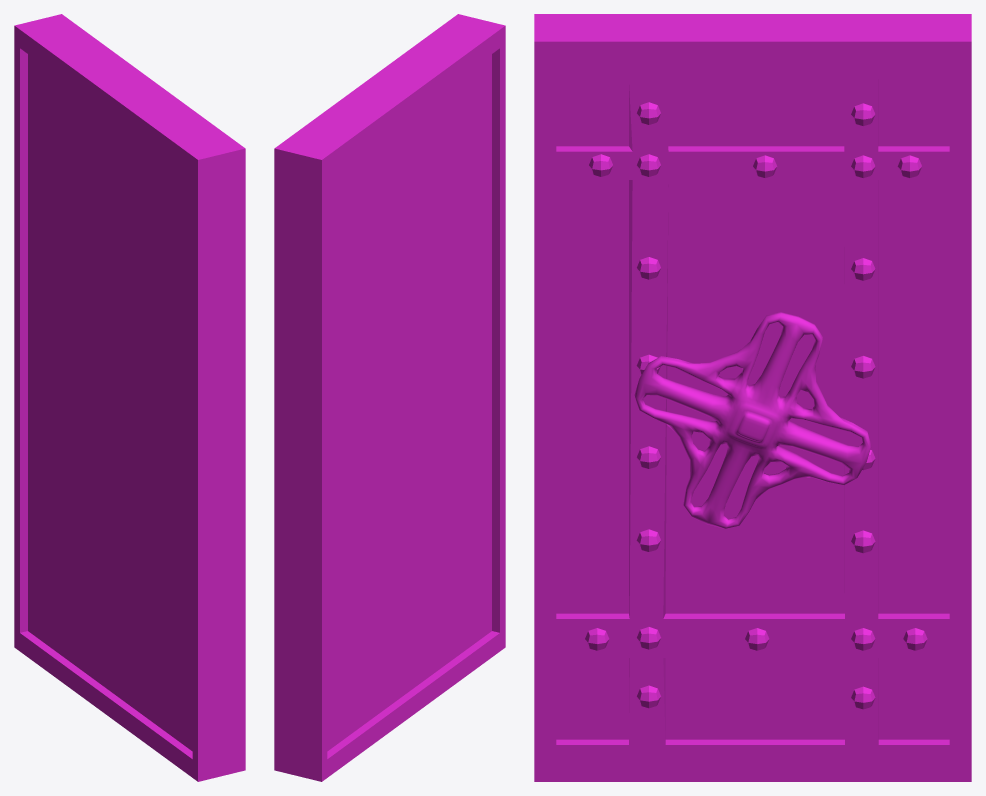
Rendered from Door.fbx.
3 views of the same model, side by side, from view 1: azimuth 30°, elevation 25°; view 2: azimuth 150°, elevation 25°; view 3: azimuth 270°, elevation 25° (orthographic). The views are drawn at different scales.
Parts seen in each view (by area): view 1: Cube.024; view 2: Cube.024; view 3: Cube.024.
Boxes of the visible parts, bbox=[...] form: Cube.024: bbox=[14, 14, 245, 781]; Cube.024: bbox=[274, 14, 505, 781]; Cube.024: bbox=[534, 14, 971, 781].
Size of the model in its own units: 49.75 by 374 by 200.
